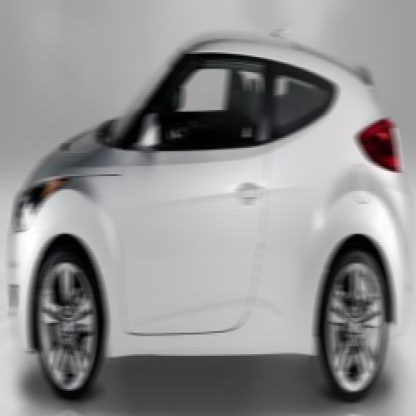Vehicle: (7, 21, 414, 408)
